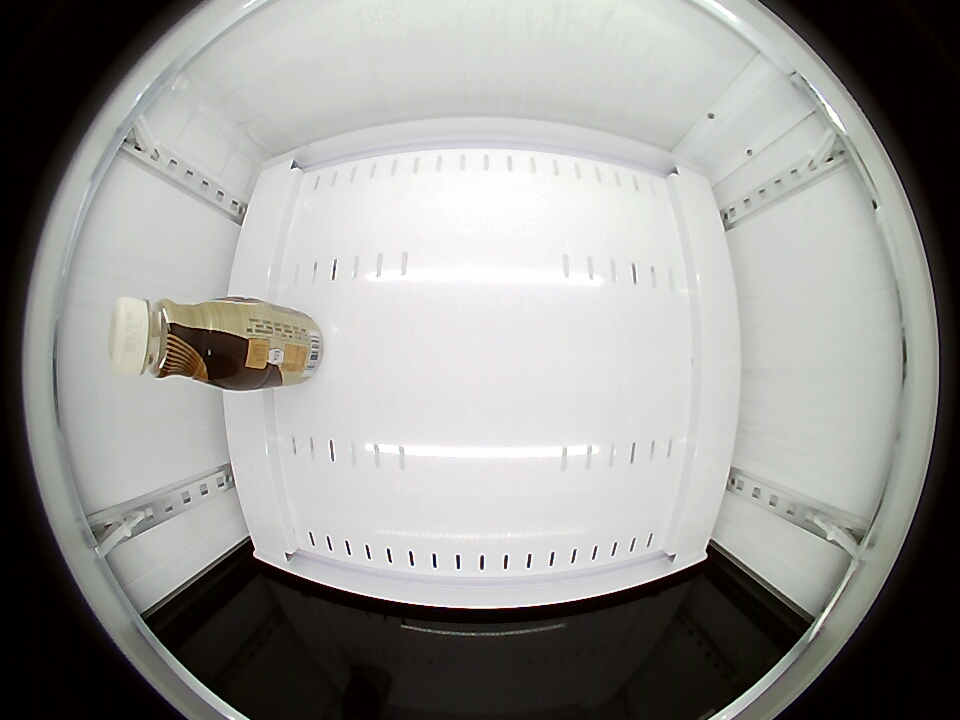kafei: (108, 296, 245, 386)
